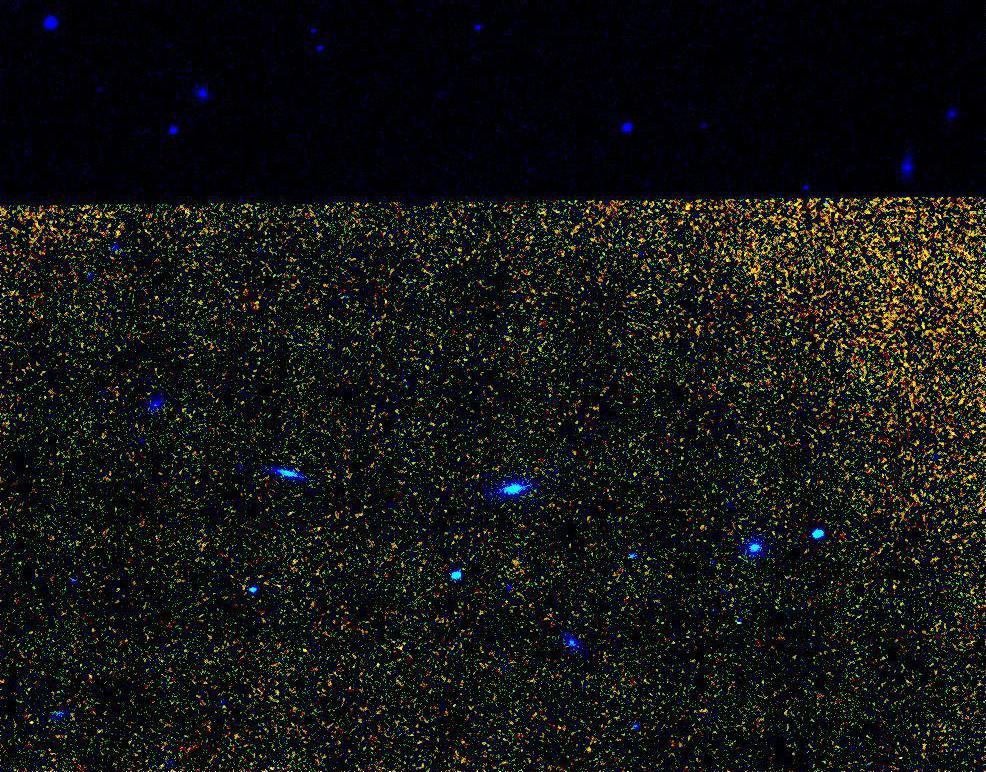star: (573, 736, 603, 766)
